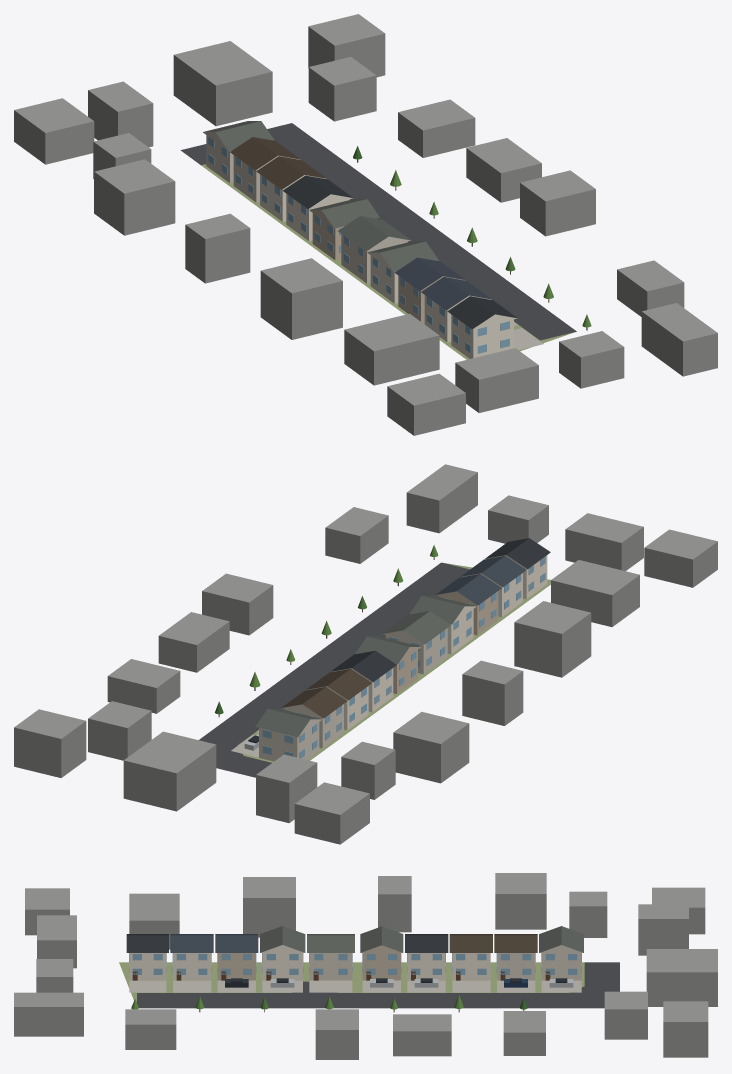
The model's file is mitsushima_town.glb.
3 renders of one model, top to bottom at view 1: azimuth 30°, elevation 25°; view 2: azimuth 150°, elevation 25°; view 3: azimuth 270°, elevation 25°, orthographic. The views are drawn at different scales.
Visible parts, largest first — view 1: neighbor, road, house_10, house_06, house_04, house_05, house_07, house_09, house_02, house_03, house_08, house_01 (+1 smaller); view 2: neighbor, road, house_01, house_06, house_08, house_02, house_07, house_04, house_03, house_09, house_10, house_05 (+1 smaller); view 3: neighbor, road, house_07, house_01, house_06, house_05, house_02, house_08, house_09, house_03, house_04, house_10 (+4 smaller).
Part boxes in pixels (x1,y1,x2,y2): neighbor: (14, 14, 717, 435); road: (180, 123, 576, 340); house_10: (447, 296, 543, 358); house_06: (338, 216, 411, 283); house_04: (283, 175, 353, 241); house_05: (309, 199, 379, 260); house_07: (367, 241, 438, 303); house_09: (421, 277, 517, 342); house_02: (230, 137, 300, 202); house_03: (256, 156, 326, 221); house_08: (394, 257, 465, 322); house_01: (203, 121, 274, 183); neighbor: (14, 464, 717, 844); road: (199, 562, 469, 777); house_01: (231, 708, 322, 761); house_06: (382, 611, 450, 674); house_08: (435, 574, 501, 635); house_02: (256, 687, 347, 748); house_07: (409, 595, 476, 654); house_04: (330, 650, 396, 711); house_03: (306, 669, 371, 730); house_09: (460, 556, 526, 617); house_10: (485, 538, 550, 598); house_05: (355, 636, 421, 693); neighbor: (14, 873, 717, 1059); road: (137, 962, 619, 1008); house_07: (260, 926, 305, 992); house_01: (539, 926, 583, 992); house_06: (307, 934, 354, 992); house_05: (360, 926, 403, 992); house_02: (494, 934, 537, 992); house_08: (215, 934, 258, 992); house_09: (170, 934, 213, 992); house_03: (449, 934, 492, 992); house_04: (405, 934, 448, 992); house_10: (126, 934, 168, 992).
Size of what is drawn, in the model's own units: 66.25 by 8.09 by 130.
